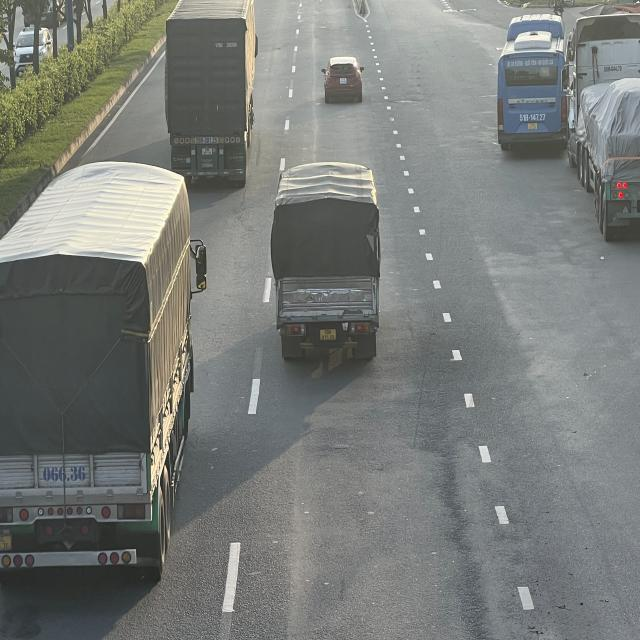car: (324, 55, 368, 105)
coach: (498, 19, 570, 154)
container: (163, 0, 262, 180), (568, 9, 638, 237)
truck: (0, 166, 202, 586), (268, 166, 381, 367)
